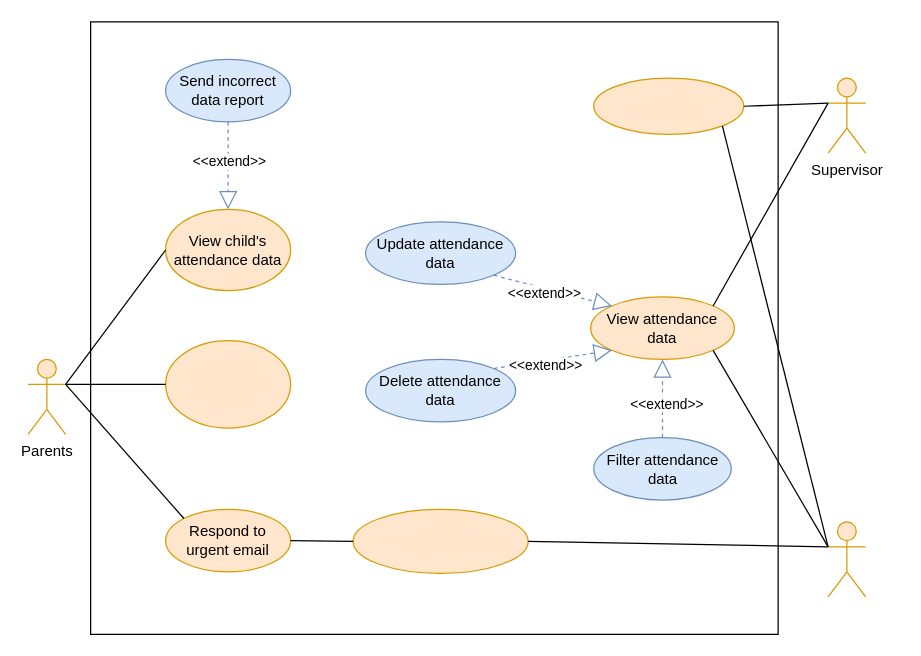
This 921x656 diagram has some shape labels left out. Here are the shapes that lost their labels. From the top down, the centre of each, then its label:
[668,105]: Record Attendance
[227,383]: Apply an application for absence
[440,540]: Send email for unexcused absence
[846,559]: Chief Supevisor
